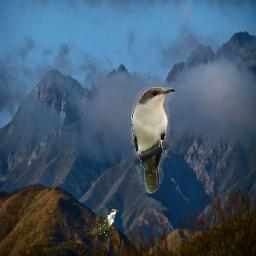Cuckoo: (131, 87, 176, 194), (99, 209, 119, 236)
